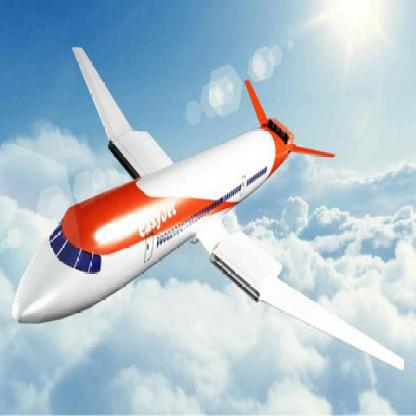CIV_Plane: (12, 27, 408, 378)
